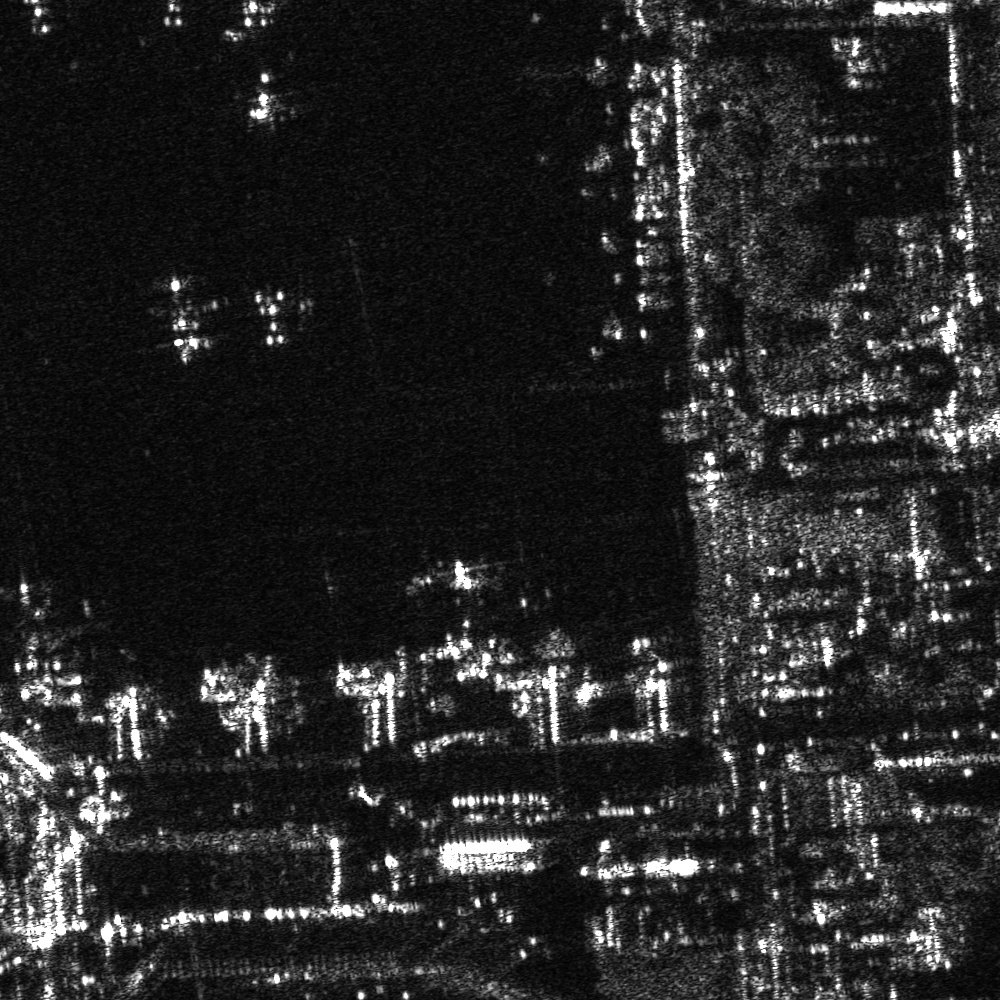A220: (242, 279, 302, 353)
ARJ21: (240, 65, 293, 136)
Boeing787: (413, 545, 496, 610)
other: (139, 267, 236, 368)
